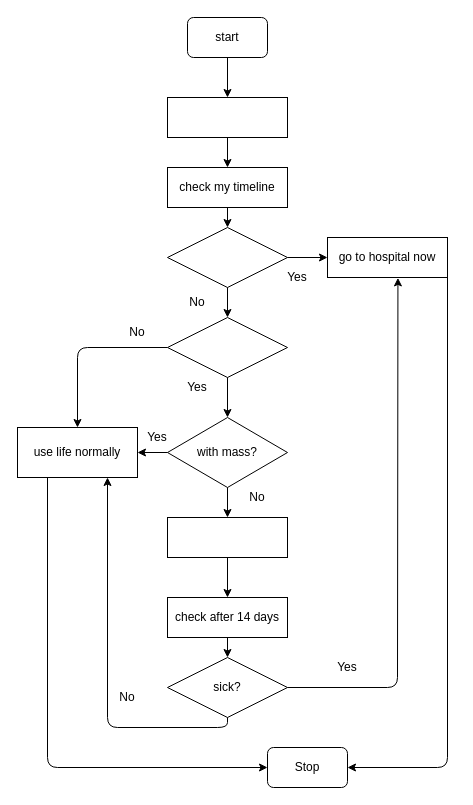
Image size: 473x805. Some labels were removed from this diagram. Each missing label, with the centre of its shape:
check the patients timeline: point (227, 117)
I am sick?: point (227, 257)
keep self least 7 day: point (227, 537)
same place?: point (227, 347)
